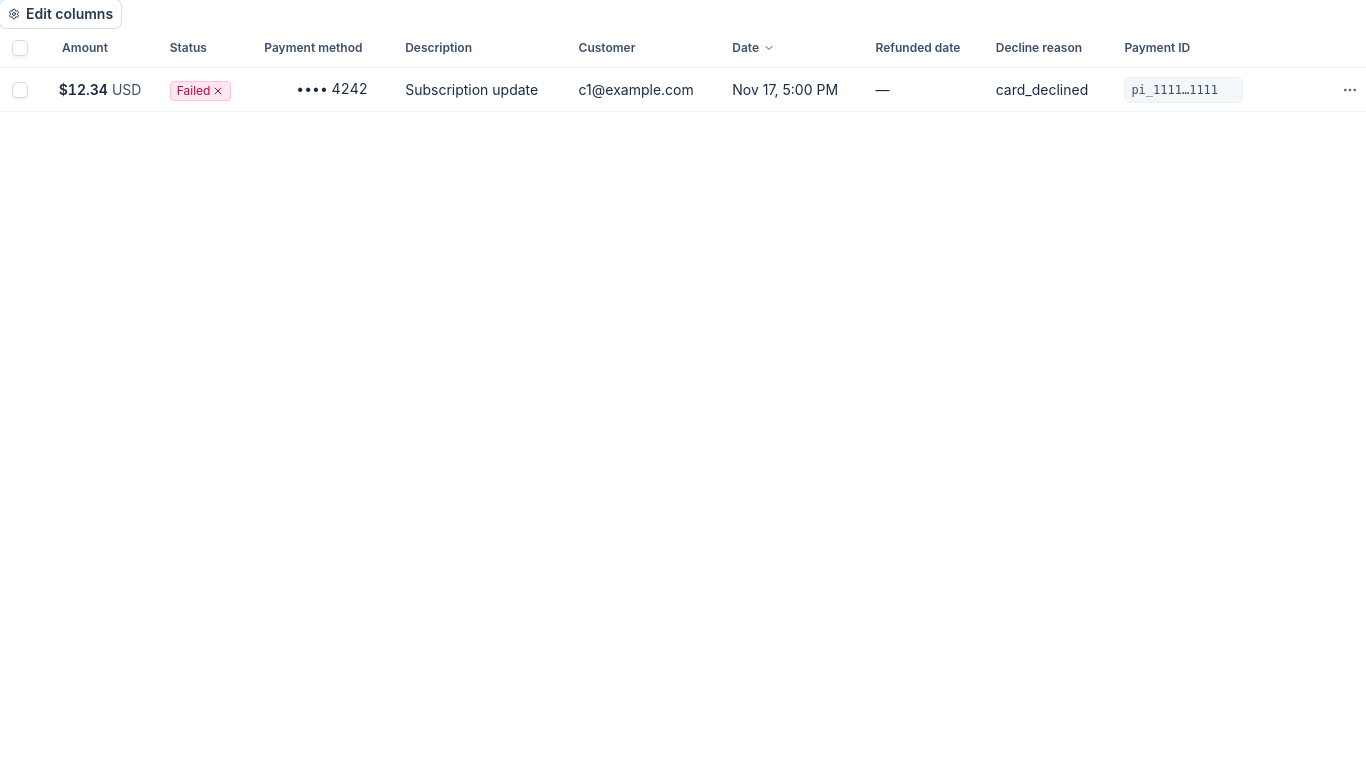
Test: Edit columns › hides a column's header and cells when unchecked, and Reset restores it
Expected: the text "card_declined" is shown, x1=996 y1=80 x2=1100 y2=100
Step 1. Click the button "Edit columns" → [61, 14], box x1=0 y1=0 x2=121 y2=28
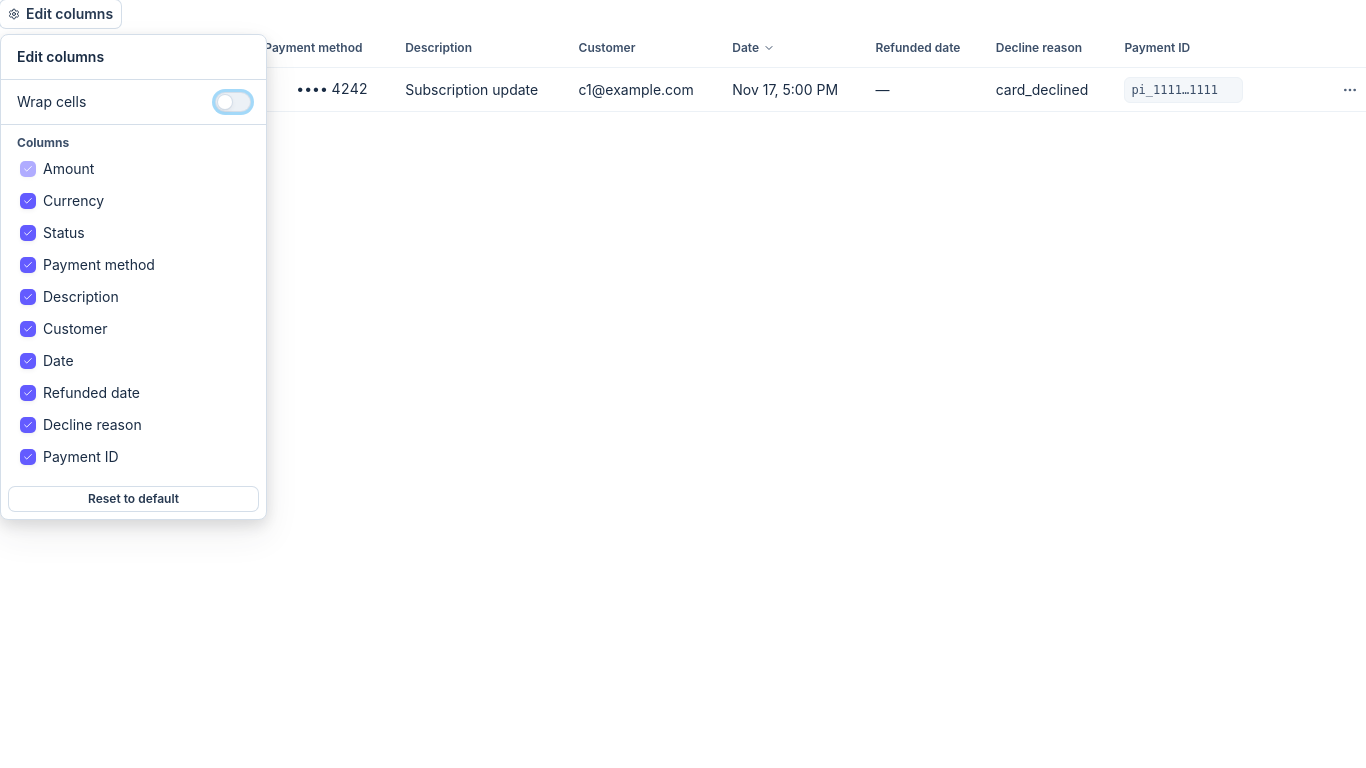
Step 2. Click the checkbox named "Decline reason" → [28, 425], box x1=21 y1=418 x2=35 y2=432
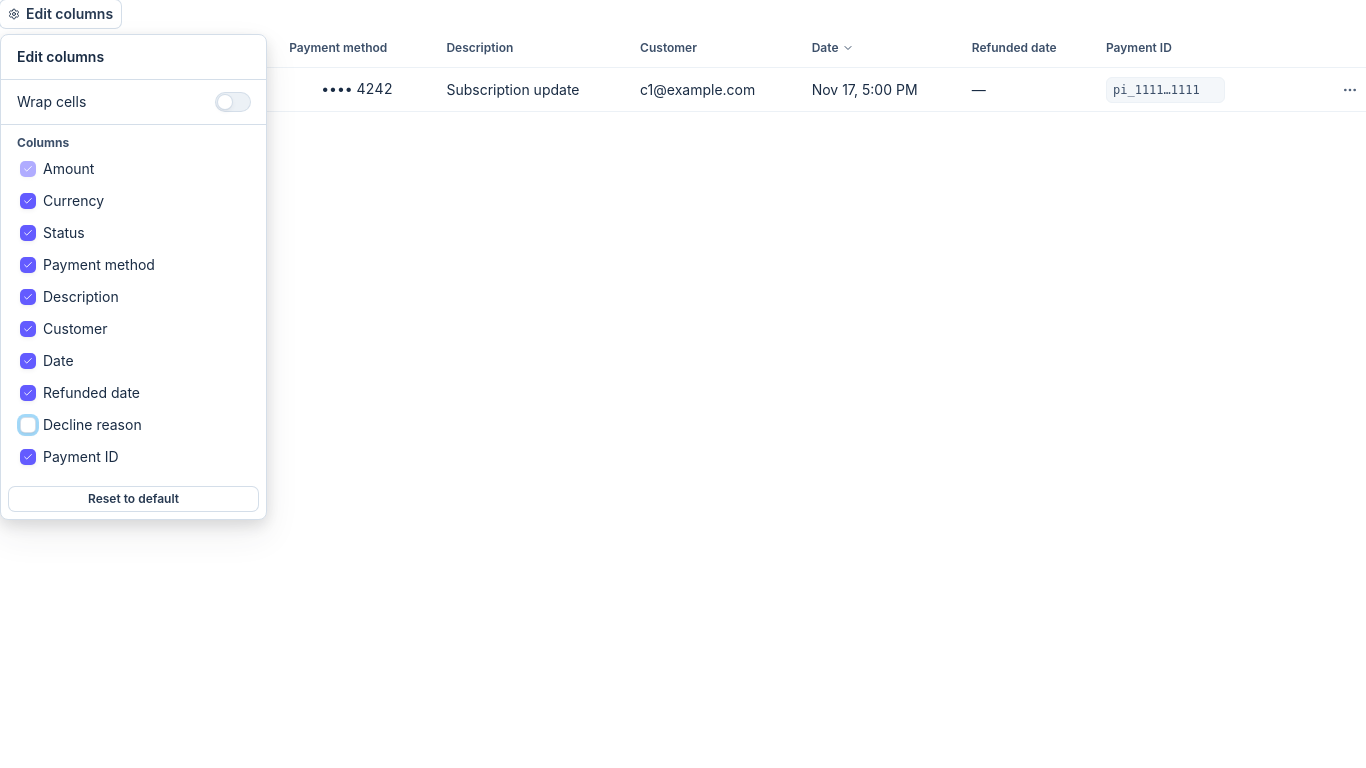
Result: the text "card_declined" is gone
Step 3. Click the button "Reset to default" → [134, 499], box x1=9 y1=487 x2=258 y2=511
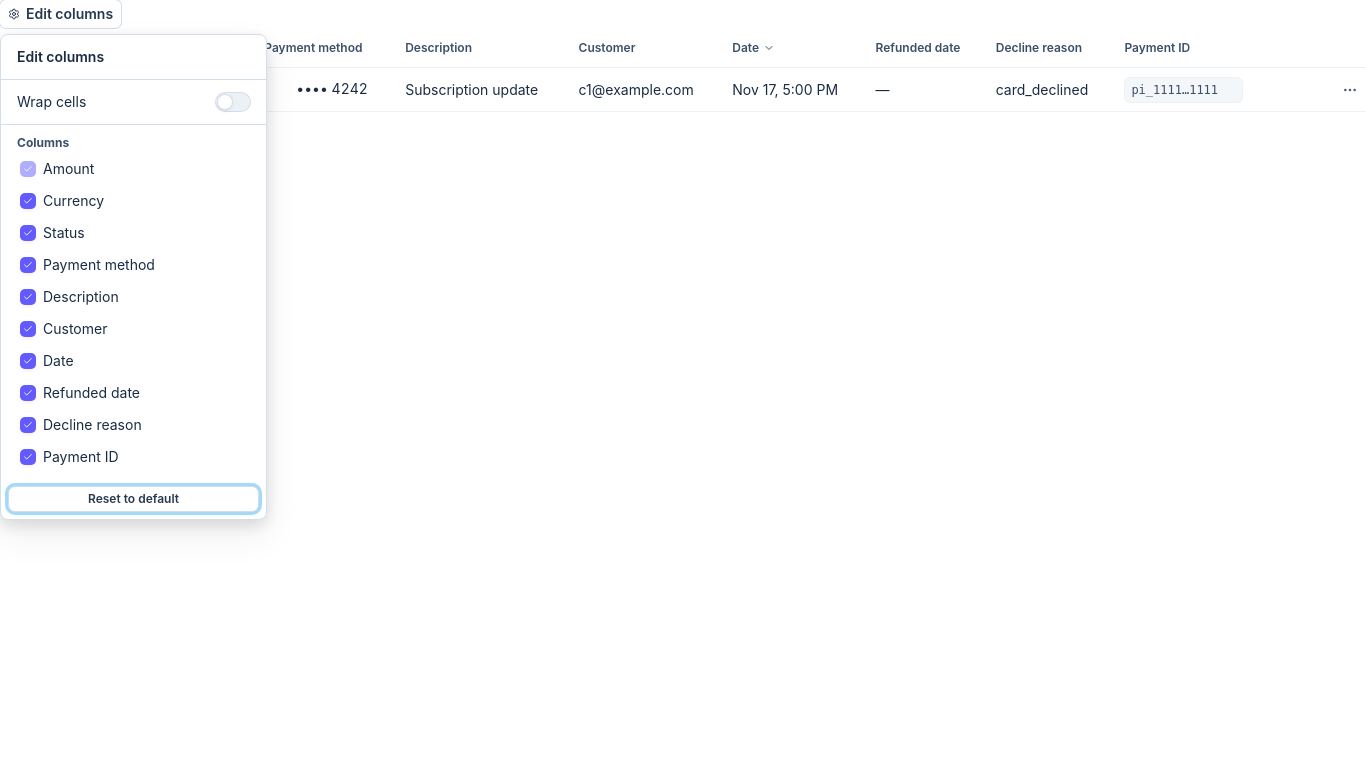
Result: the checkbox named "Decline reason" is checked at x1=21 y1=418 x2=35 y2=432
